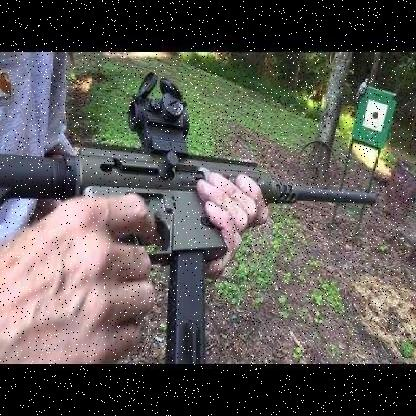rifle: (0, 119, 397, 394)
